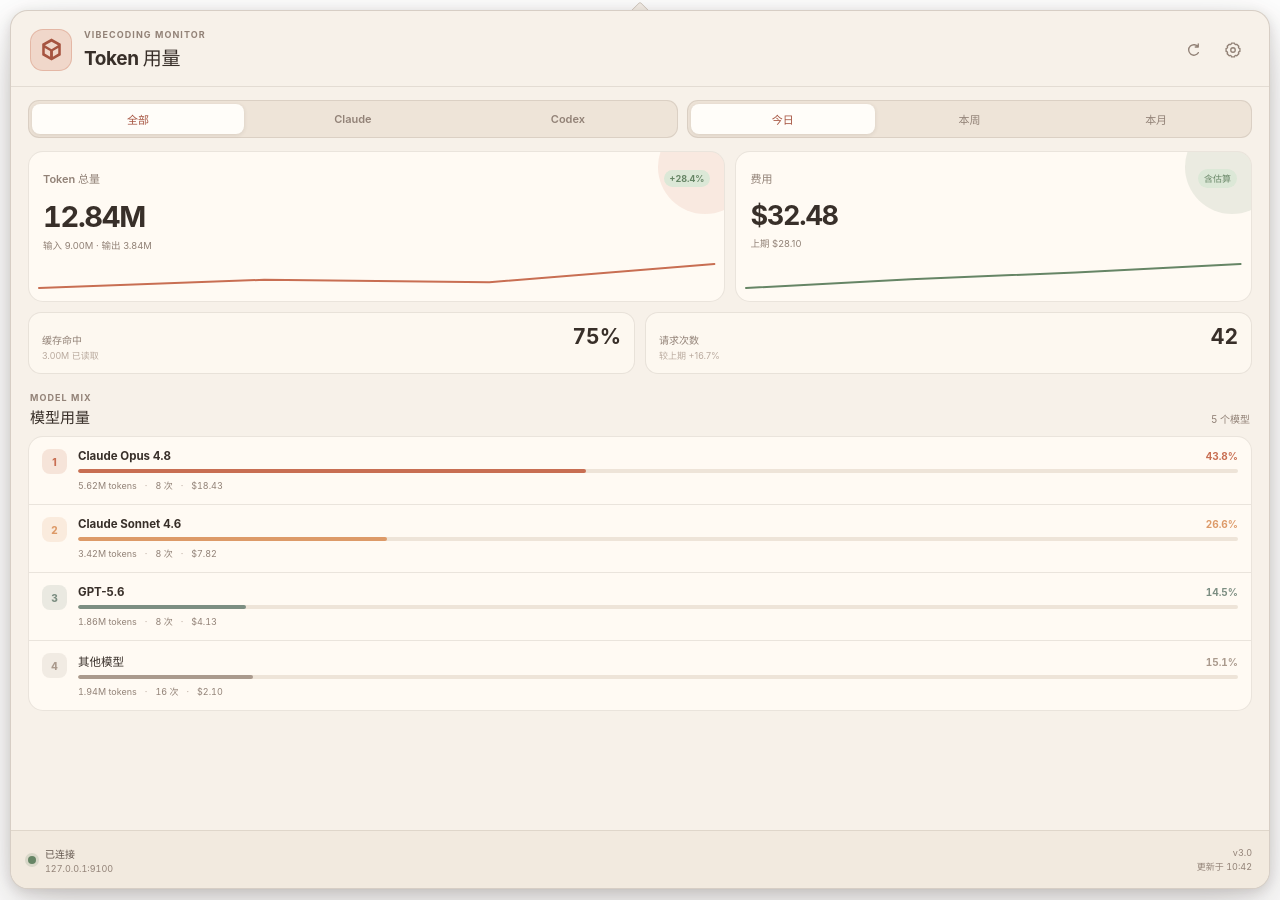
it: Vibecoding Monitor panel › does not reuse data from another host when the new server fails
This screenshot has width=1280, height=900.
Check: the text "12.84M" is shown, box [43,199,145,234]
Step 1. Click the button named "打开设置" → coordinates (1233, 50), box [1216,32,1250,66]
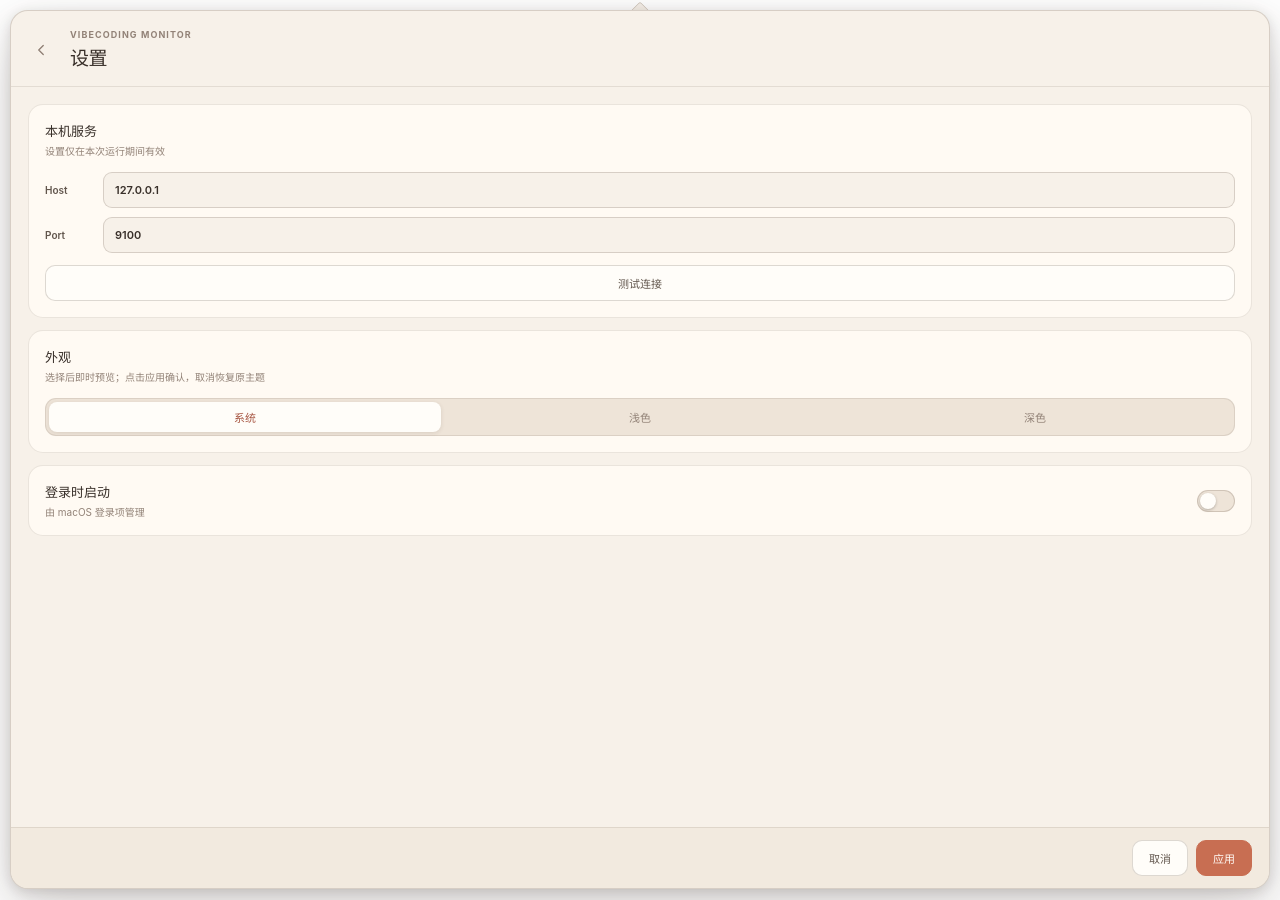
Step 2. Replace the text in the field labelled "Host" with "localhost" → coordinates (669, 190), box [103,172,1235,208]
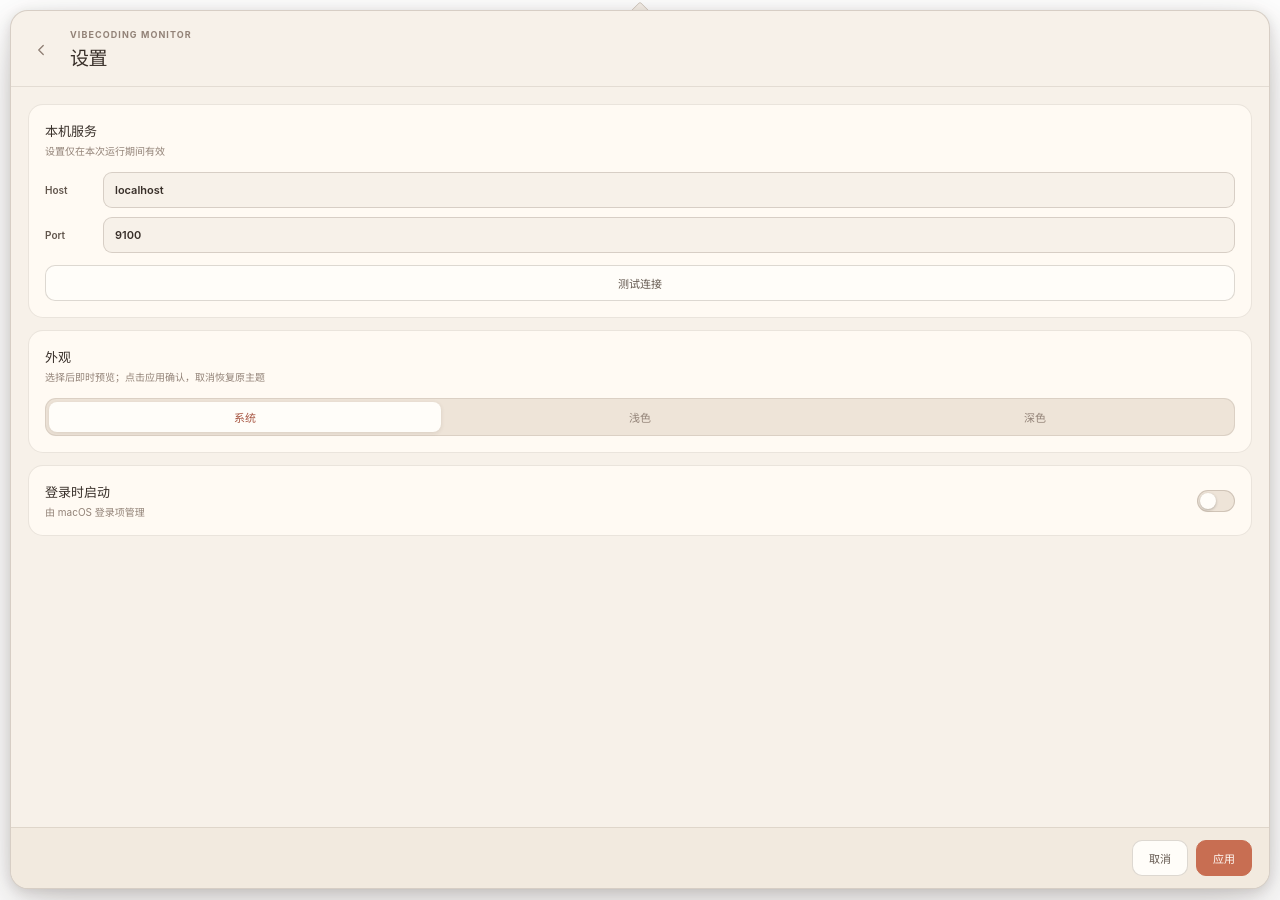
Step 3. Click the button "应用" → coordinates (1224, 858), box [1196,840,1252,876]
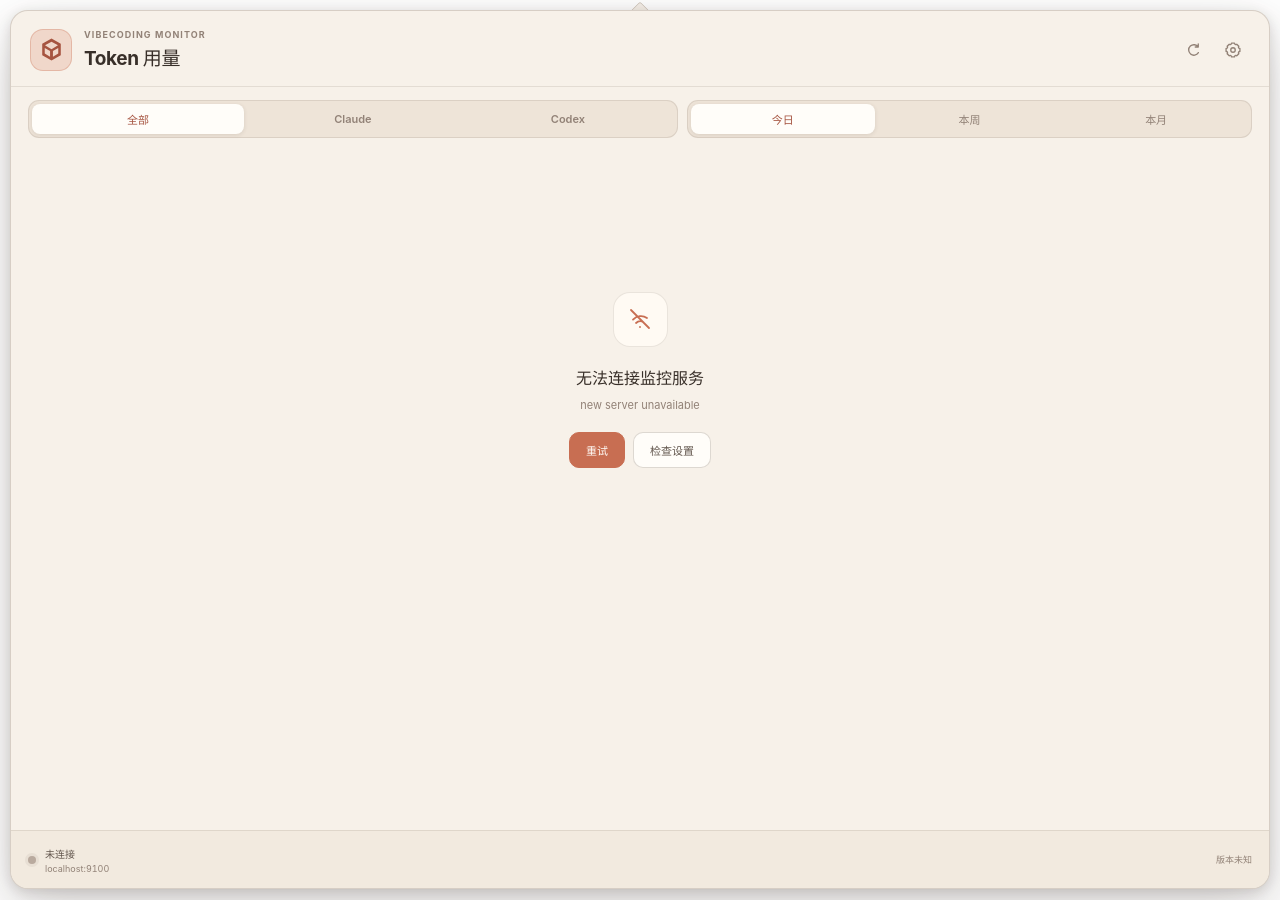
Check: the text "new server unavailable" is shown, box [580,397,700,414]
Check: the heading "无法连接监控服务" is shown, box [576,365,704,389]
Check: the text "localhost:9100" is shown, box [45,862,109,874]
